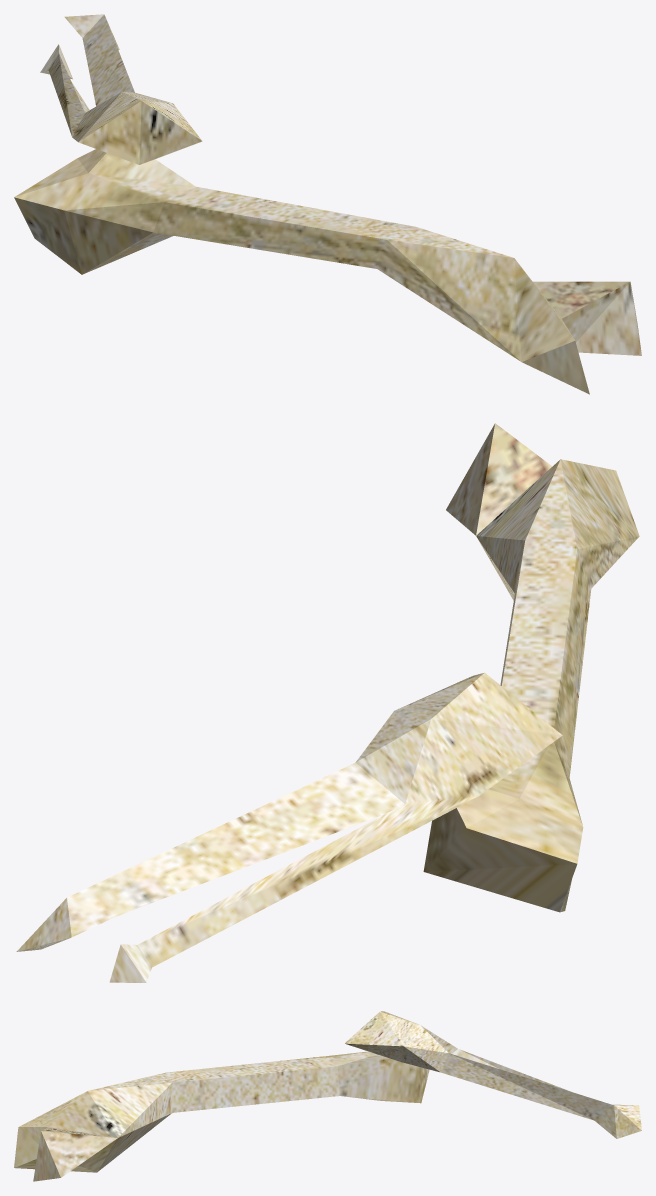
File: poi_tato_skel_krayt_leg_s02_l1.fbx
3 renders of one model, top to bottom at view 1: azimuth 30°, elevation 25°; view 2: azimuth 150°, elevation 25°; view 3: azimuth 270°, elevation 25°, orthographic. The views are drawn at different scales.
Visible parts, largest first — view 1: mesh_node; view 2: mesh_node; view 3: mesh_node.
Part boxes in pixels (x1,y1,x2,y2): mesh_node: [14, 14, 641, 394]; mesh_node: [16, 423, 639, 982]; mesh_node: [14, 1011, 641, 1181].
Size of the model in its own units: 3.31 by 1.4 by 7.32.
Materials: 2 (2 with a texture image).
